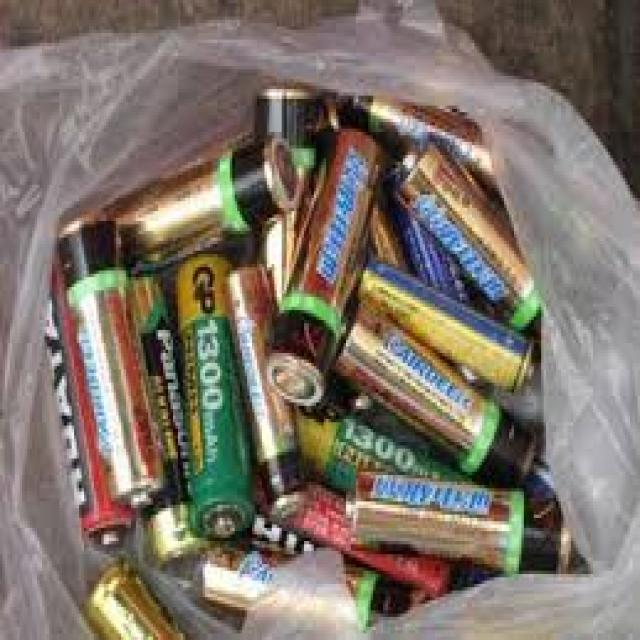non-organic waste: (338, 294, 539, 488), (54, 206, 166, 514), (392, 136, 548, 332), (270, 132, 378, 405), (345, 467, 574, 576), (174, 257, 254, 541)
